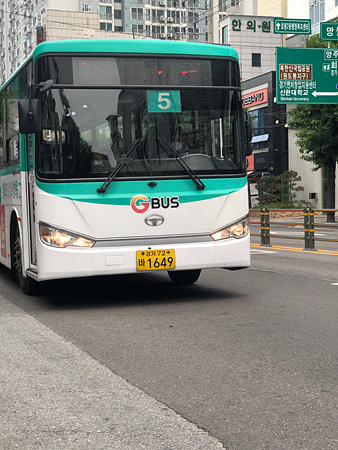bnum: (150, 89, 178, 111)
